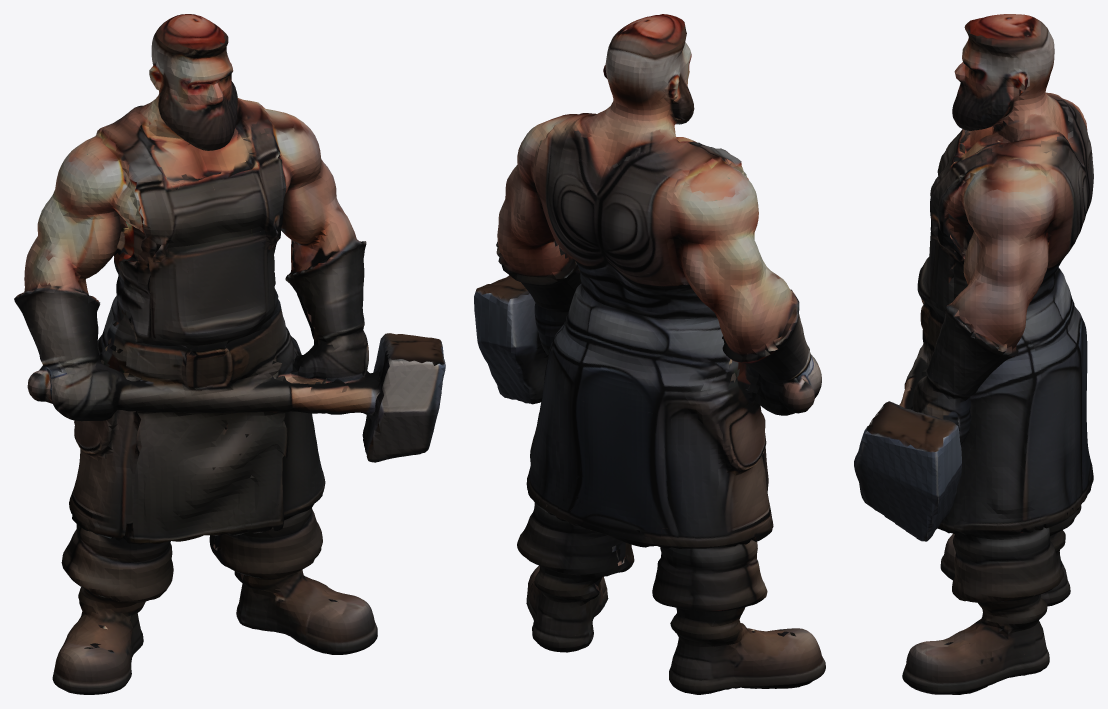
File: body.glb
3 views of the same model, side by side, from view 1: azimuth 30°, elevation 25°; view 2: azimuth 150°, elevation 25°; view 3: azimuth 270°, elevation 25° (orthographic). The views are drawn at different scales.
Parts seen in each view (by area): view 1: geometry_0; view 2: geometry_0; view 3: geometry_0.
Boxes of the visible parts, x1=… form: geometry_0: x1=14, y1=14, x2=445, y2=694; geometry_0: x1=474, y1=14, x2=825, y2=694; geometry_0: x1=854, y1=14, x2=1093, y2=694.
Size of the model in its own units: 1.22 by 1.96 by 0.6933.
1 material, 1 textured.
